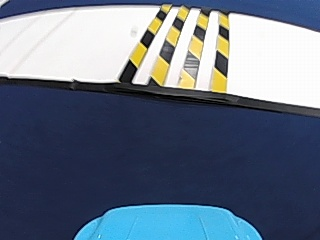bump: (118, 8, 237, 87)
